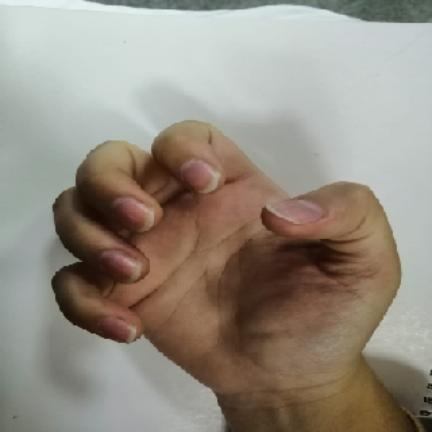Nail: (110, 196, 155, 231), (265, 198, 324, 224), (180, 160, 222, 194), (101, 250, 142, 283), (100, 316, 137, 342)
